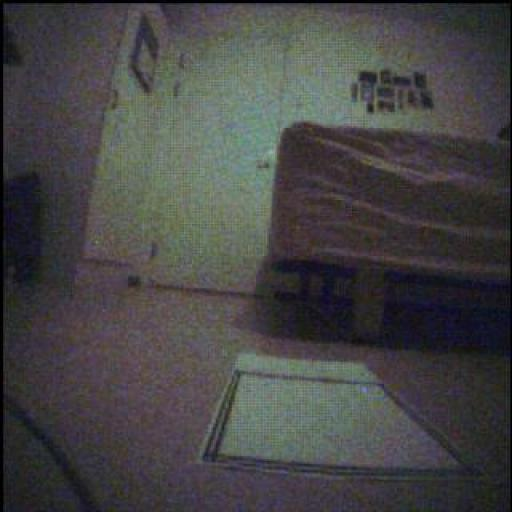pad: (203, 355, 484, 480)
